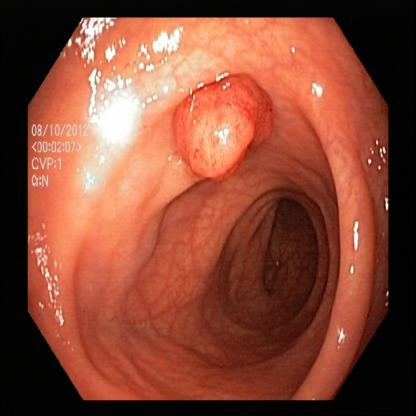Labels: (28, 118, 105, 192)
Polyps: (162, 76, 284, 178)
